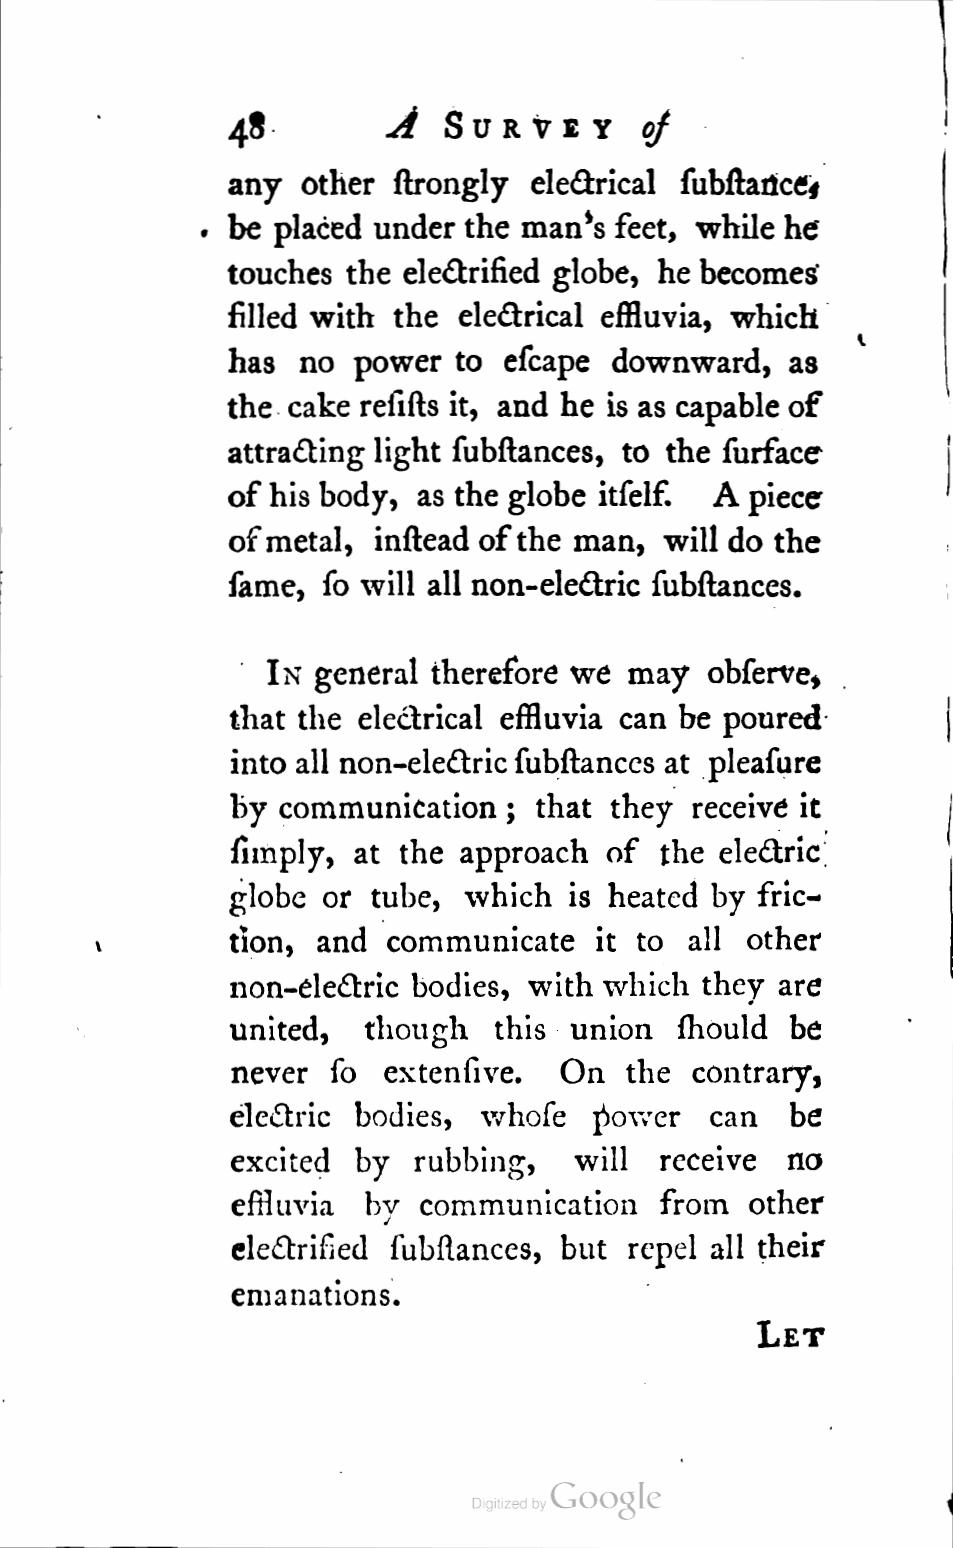bottom_p: (222, 163, 828, 605)
catchword: (756, 1317, 828, 1351)
full_p: (226, 653, 829, 1312)
header: (383, 103, 677, 150)
page_num: (226, 105, 270, 150)
